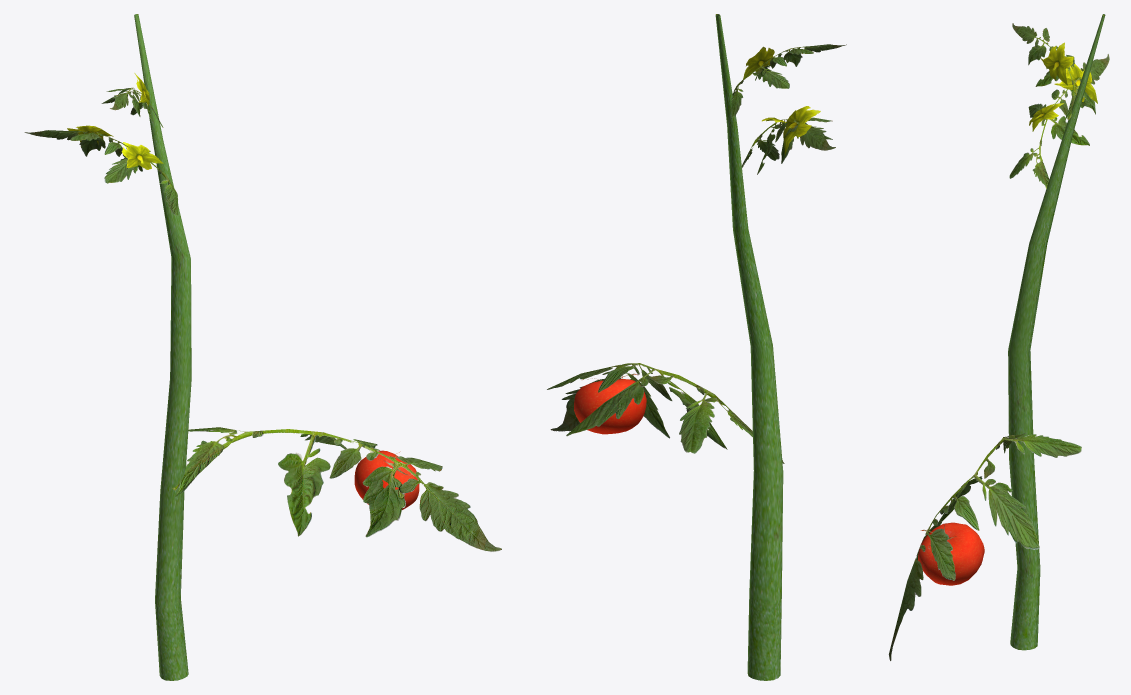
Rendered from tomato plant in parts.FBX.
3 views of the same model, side by side, from view 1: azimuth 30°, elevation 25°; view 2: azimuth 150°, elevation 25°; view 3: azimuth 270°, elevation 25° (orthographic). The views are drawn at different scales.
Parts seen in each view (by area): view 1: Base, Branch 1, Branch 2, Tomato, Branch 3; view 2: Base, Branch 1, Branch 2, Tomato, Branch 3; view 3: Base, Branch 1, Branch 2, Tomato, Branch 3.
Part boxes in pixels (bbox=[...]): Base: bbox=[134, 14, 191, 680]; Branch 1: bbox=[172, 427, 501, 551]; Branch 2: bbox=[24, 125, 178, 215]; Tomato: bbox=[354, 450, 419, 509]; Branch 3: bbox=[101, 73, 163, 127]; Base: bbox=[715, 14, 783, 680]; Branch 1: bbox=[547, 363, 784, 463]; Branch 2: bbox=[741, 106, 835, 174]; Tomato: bbox=[574, 373, 646, 434]; Branch 3: bbox=[730, 44, 846, 117]; Base: bbox=[1008, 14, 1105, 650]; Branch 1: bbox=[888, 433, 1081, 660]; Branch 2: bbox=[1009, 54, 1109, 188]; Tomato: bbox=[918, 522, 984, 585]; Branch 3: bbox=[1012, 23, 1094, 119].
Size of the model in its own units: 152 by 243 by 81.94.
